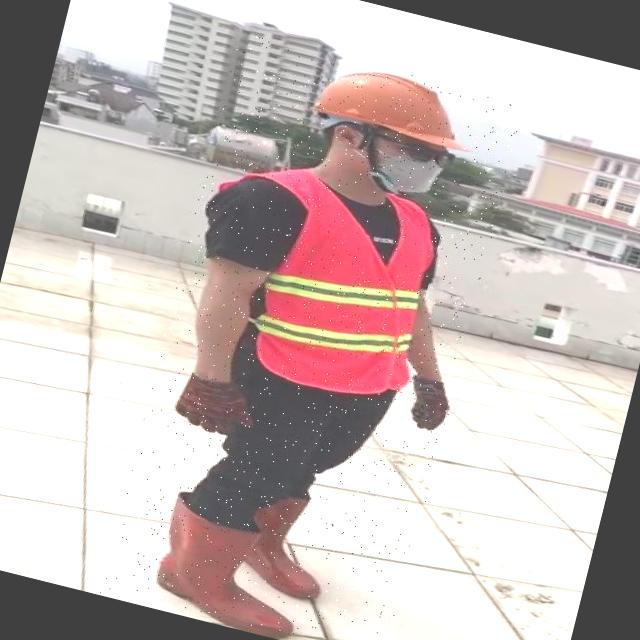boots: (147, 491, 317, 640), (236, 490, 339, 602)
gloves: (152, 338, 276, 460), (374, 356, 462, 442)
helmet: (303, 52, 474, 153)
vest: (235, 169, 450, 408)
